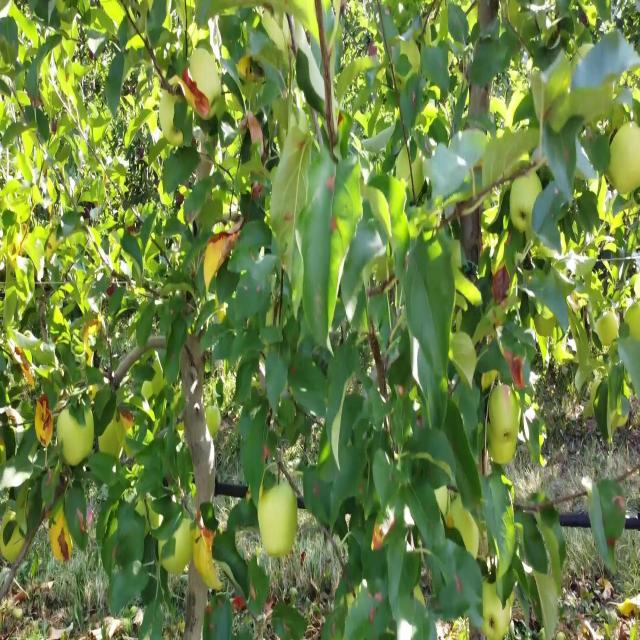apple: (260, 483, 300, 562), (488, 383, 520, 468), (60, 405, 96, 469), (608, 127, 640, 197), (260, 511, 299, 562), (192, 526, 222, 590), (160, 526, 193, 578), (184, 63, 211, 121), (204, 234, 229, 290), (484, 590, 512, 639), (488, 426, 519, 469), (600, 184, 624, 233), (4, 511, 25, 564), (36, 398, 55, 448), (492, 263, 513, 304), (52, 519, 71, 564), (84, 319, 102, 361), (248, 120, 266, 162), (512, 355, 527, 391), (372, 519, 387, 553), (616, 398, 631, 430), (120, 405, 136, 432), (0, 440, 8, 468), (252, 184, 264, 201), (264, 447, 272, 462), (108, 284, 116, 299)
